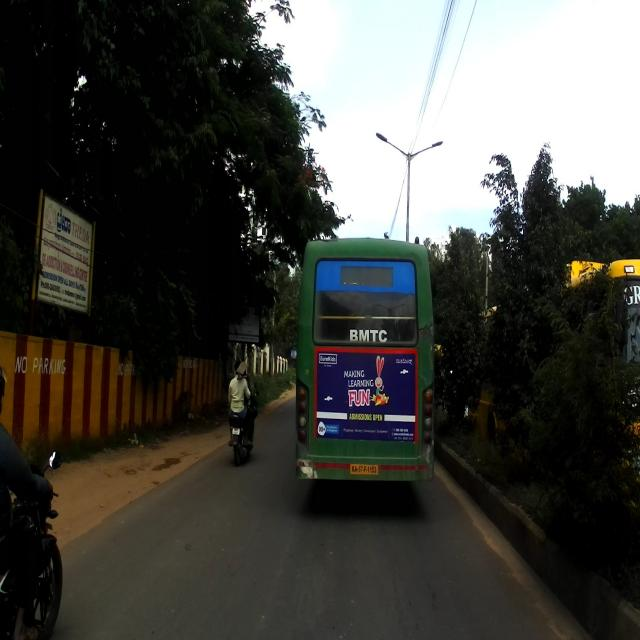bus: (296, 233, 436, 480)
motorcycle: (228, 391, 258, 468)
